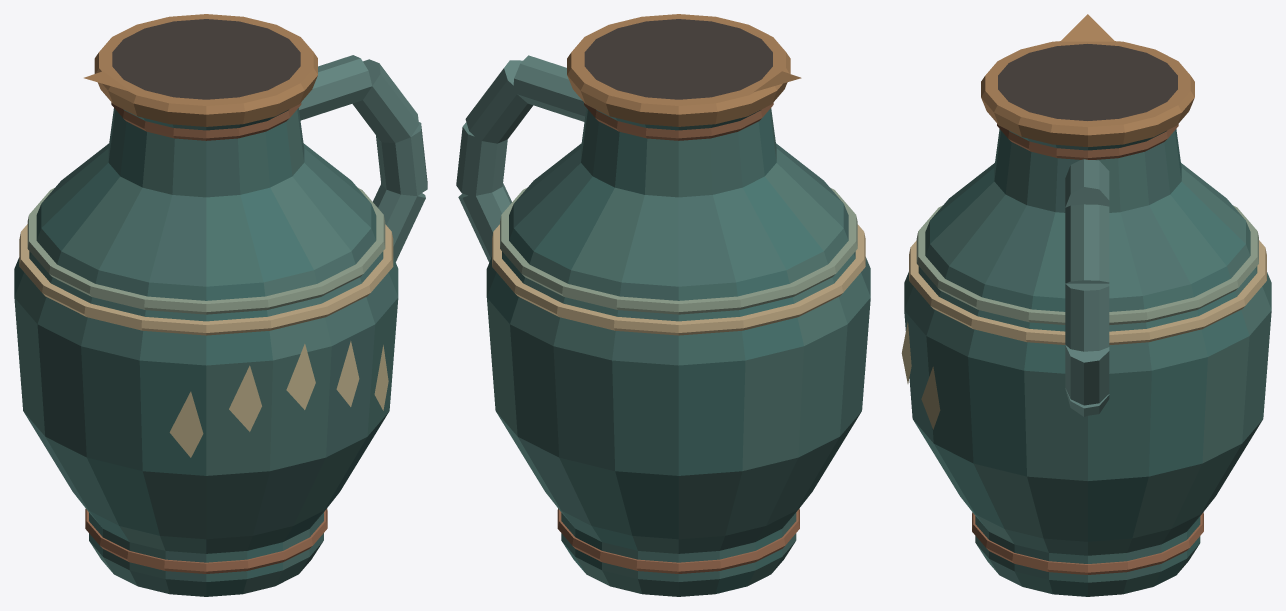
The model's file is apple_jug.glb.
The picture shows the model from 3 angles, left to right: view 1: azimuth 30°, elevation 25°; view 2: azimuth 150°, elevation 25°; view 3: azimuth 270°, elevation 25°; orthographic projection. The views are drawn at different scales.
Parts seen in each view (by area): view 1: apple_jug; view 2: apple_jug; view 3: apple_jug.
Boxes of the visible parts, x1,y1,x2,y2 form: apple_jug: [14, 14, 427, 596]; apple_jug: [456, 14, 870, 596]; apple_jug: [901, 14, 1271, 596].
Size of the model in its own units: 0.6043 by 0.75 by 0.525.
